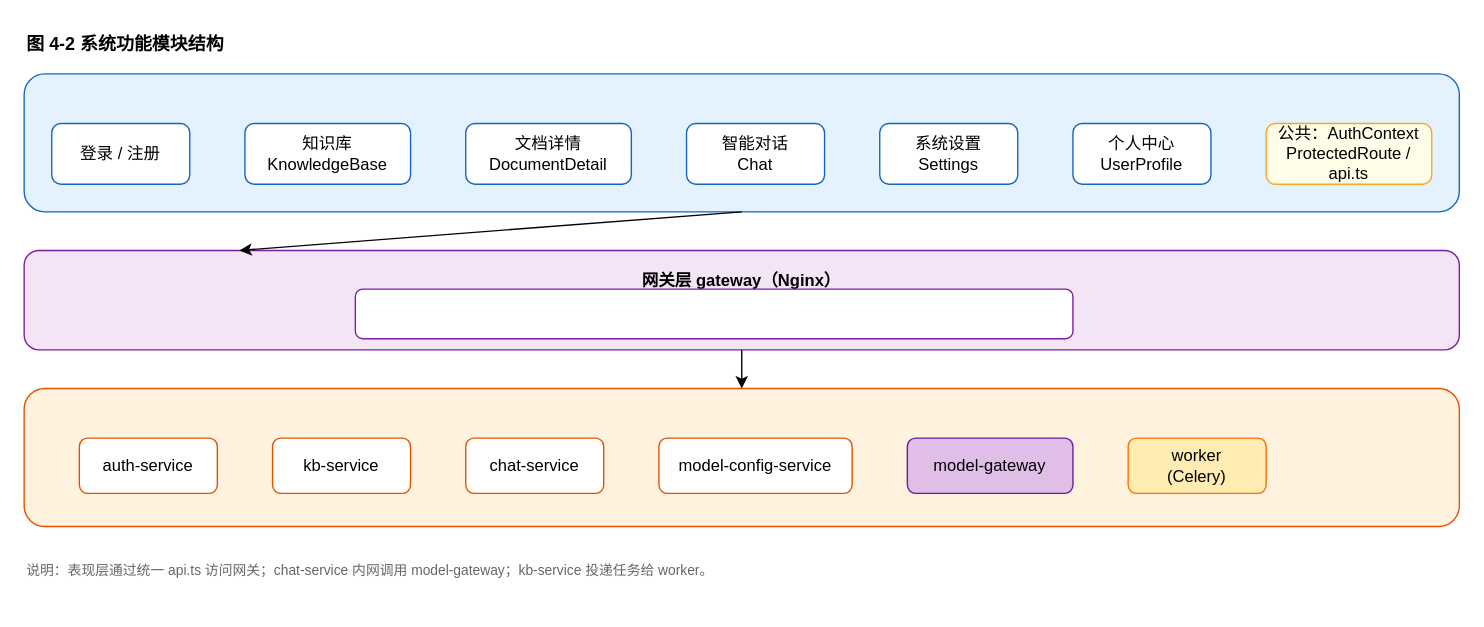
This 1484x627 diagram has some shape labels left out. The shapes that lost their labels are listed below. From the top down, each one's box as (x1, y1, x2, y2) in pixels, then its label:
(23, 72, 1459, 212): 表现层（frontend）
(354, 288, 1073, 339): /auth /kb /chat /models （SSE 流式单独 location）
(23, 387, 1459, 526): 业务服务层
